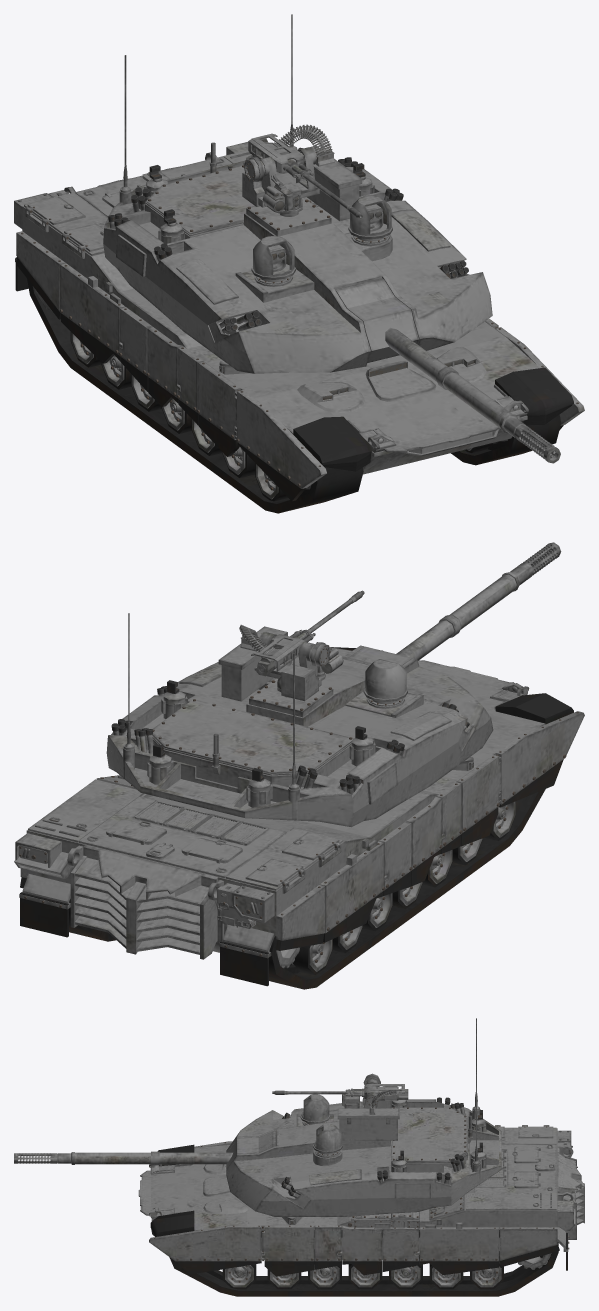
Rendered from abramsx-mortavex.glb.
3 views of the same model, one above another, from view 1: azimuth 30°, elevation 25°; view 2: azimuth 150°, elevation 25°; view 3: azimuth 270°, elevation 25° (orthographic). The views are drawn at different scales.
Parts seen in each view (by area): view 1: Turret, dekali3, Korpus, dekali, Dekali, Cube.001, Stvol, dekali.002, korpus, KOLESA, stvol, puli; view 2: Turret, dekali, dekali3, Dekali, Korpus, dekali.002, Cube.001, korpus, KOLESA, Stvol, stvol; view 3: Turret, dekali3, dekali, Korpus, Cube.001, KOLESA, Dekali, dekali.002, Stvol, korpus, stvol.
Part boxes in pixels (x1,y1,x2,y2): Turret: (103, 161, 492, 373); dekali3: (15, 231, 584, 501); Korpus: (22, 206, 539, 474); dekali: (15, 150, 573, 471); Dekali: (108, 14, 468, 334); Cube.001: (27, 279, 561, 513); Stvol: (335, 278, 560, 463); dekali.002: (14, 142, 527, 456); korpus: (242, 145, 362, 221); KOLESA: (34, 288, 507, 501); stvol: (248, 133, 362, 218); puli: (276, 124, 332, 156); Turret: (106, 645, 493, 827); dekali: (19, 647, 573, 986); dekali3: (20, 711, 584, 950); Dekali: (111, 613, 469, 820); Korpus: (26, 669, 545, 952); dekali.002: (14, 660, 514, 928); Cube.001: (69, 789, 545, 989); korpus: (218, 626, 343, 701); KOLESA: (276, 801, 515, 974); Stvol: (342, 542, 561, 665); stvol: (251, 590, 364, 676); Turret: (226, 1099, 501, 1216); dekali3: (149, 1141, 559, 1276); dekali: (149, 1127, 584, 1270); Korpus: (151, 1128, 557, 1260); Cube.001: (169, 1230, 558, 1296); KOLESA: (222, 1249, 551, 1289); Dekali: (281, 1018, 486, 1197); dekali.002: (138, 1125, 575, 1230); Stvol: (14, 1131, 275, 1169); korpus: (337, 1073, 399, 1140); stvol: (272, 1084, 408, 1100).
Size of the model in its own units: 506 by 572 by 1401.
Materials: 6 (6 with a texture image).
